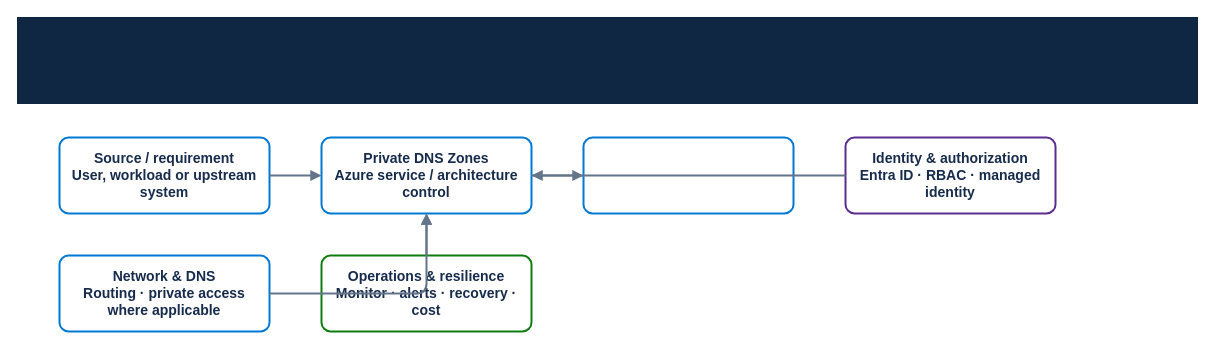
Image size: 1215x350. Some labels were removed from this diagram. Here are the shapes that lost their labels. From the top down, the centre of each, then its label:
At (x=607, y=60): "Private DNS Zones".
At (x=688, y=175): "Workload / consumer Application, data or operational outcome".
